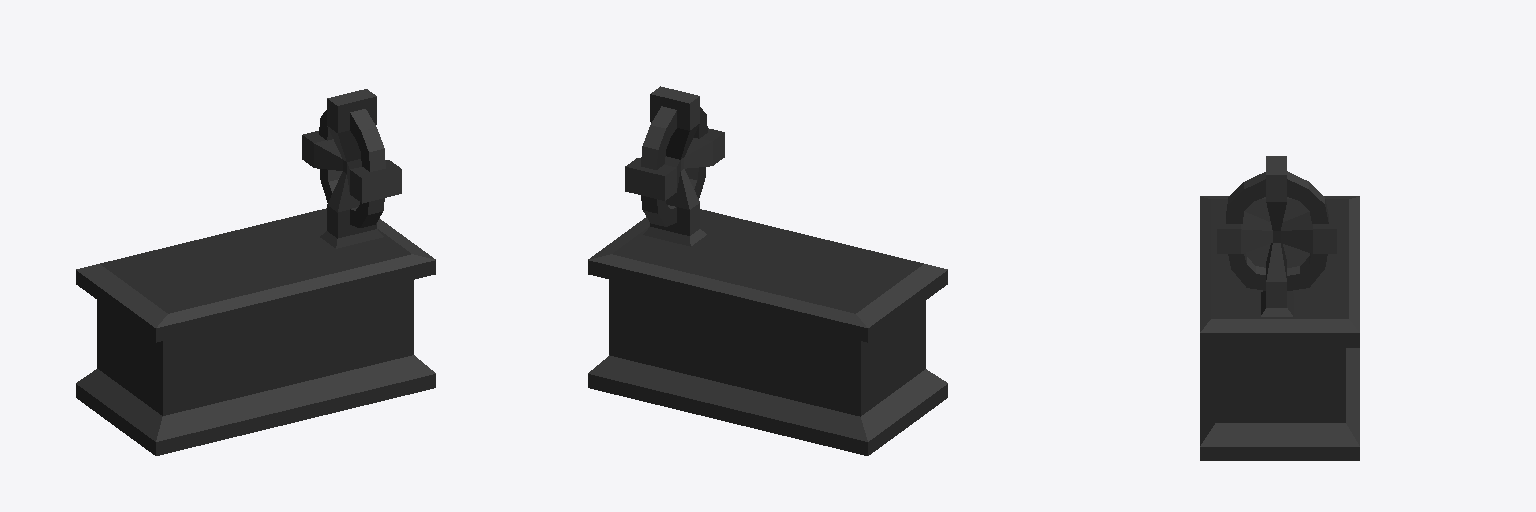
Rendered from zaros_grave.obj.
3 views of the same model, side by side, from view 1: azimuth 30°, elevation 25°; view 2: azimuth 150°, elevation 25°; view 3: azimuth 270°, elevation 25° (orthographic).
Size of the model in its own units: 248 by 231 by 123.